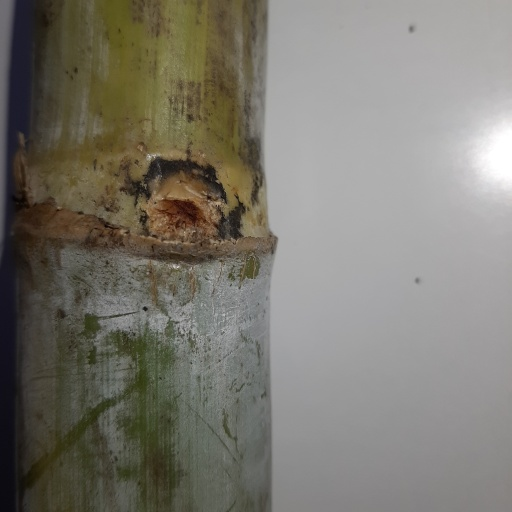Damage_Bud: (151, 175, 216, 236)
